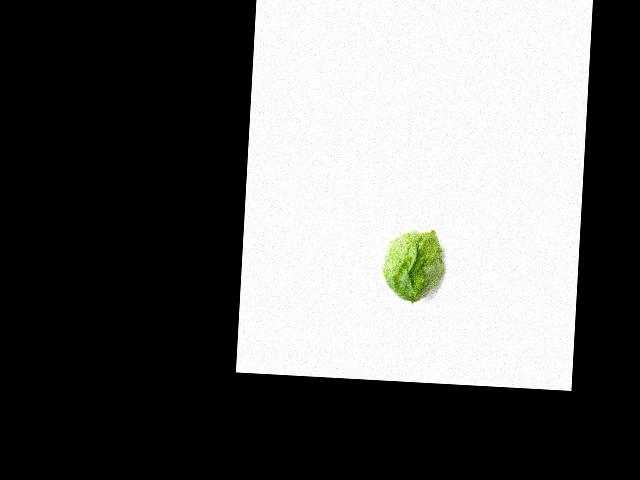lettuce: (376, 228, 450, 303)
